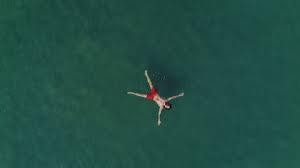Person: (124, 68, 188, 127)
